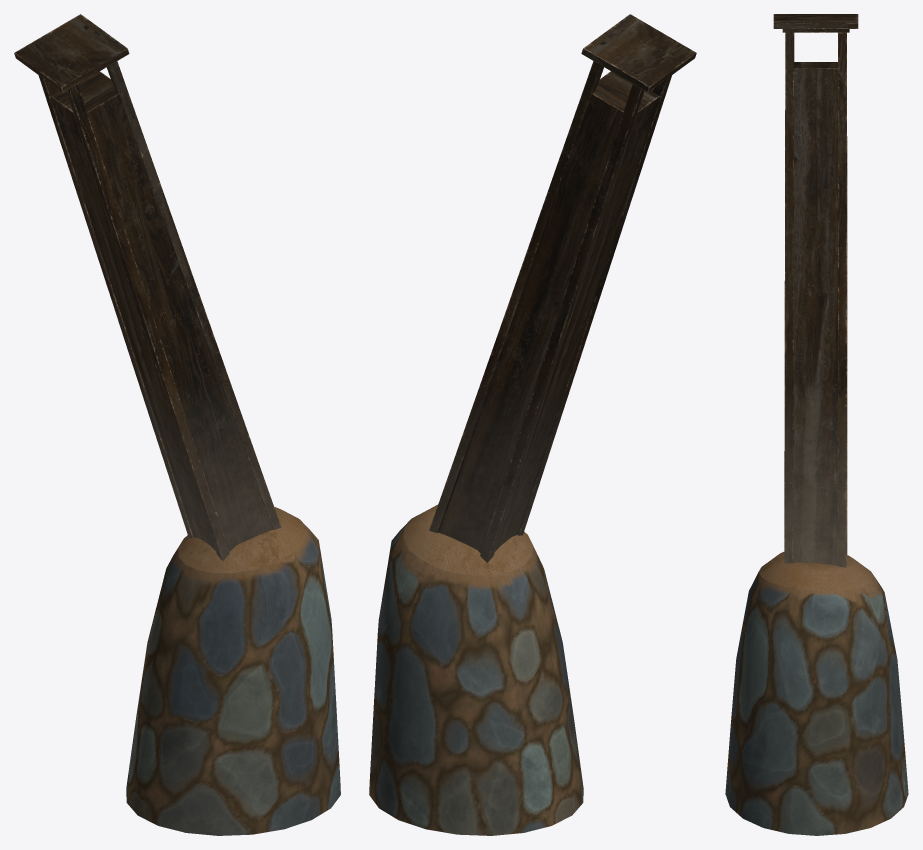
Rendered from SM_Chimney01a.fbx.
3 renders of one model, left to right at view 1: azimuth 30°, elevation 25°; view 2: azimuth 150°, elevation 25°; view 3: azimuth 270°, elevation 25°, orthographic. The views are drawn at different scales.
Visible parts, largest first — view 1: SM_Chimney01a; view 2: SM_Chimney01a; view 3: SM_Chimney01a.
Boxes of the visible parts, box(x1,y1,x2,y2) form: SM_Chimney01a: box(14, 14, 340, 835); SM_Chimney01a: box(369, 14, 696, 835); SM_Chimney01a: box(725, 14, 908, 835).
Size of the model in its own units: 125 by 323 by 75.18.
Materials: 1 (1 with a texture image).
